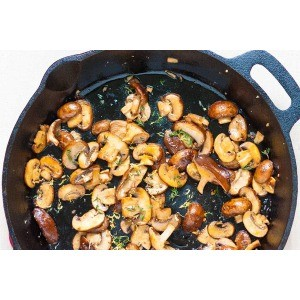mushroom_brain food: (58, 117, 260, 233)
